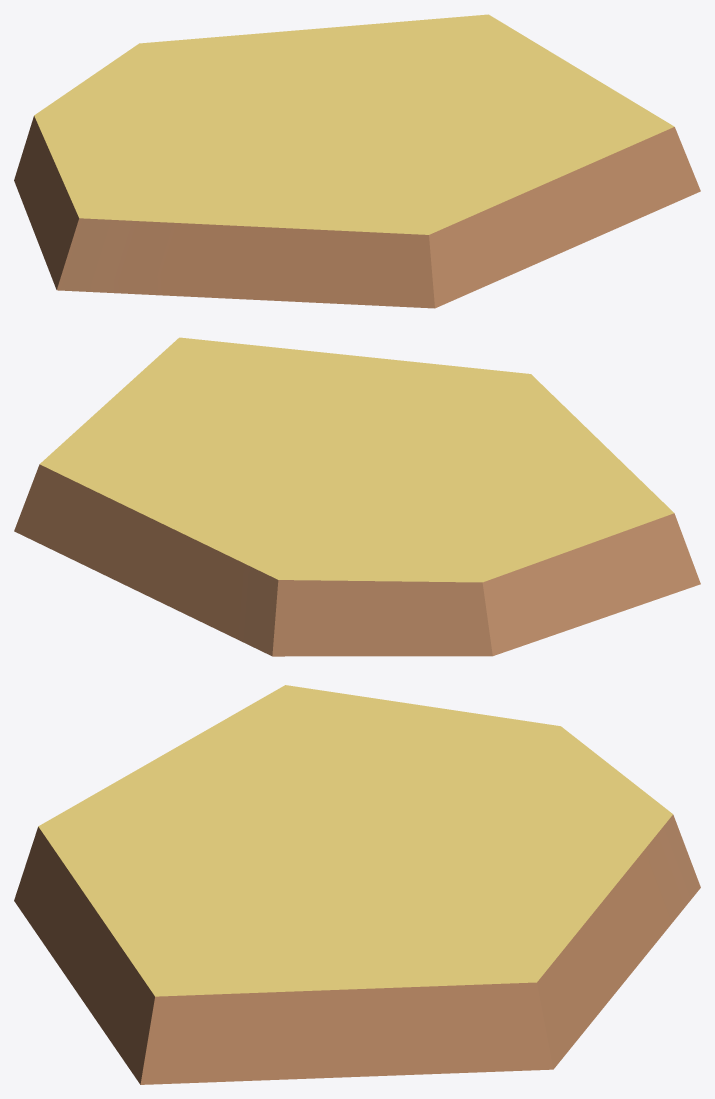
File: Dao_004.fbx
The picture shows the model from 3 angles, top to bottom: view 1: azimuth 30°, elevation 25°; view 2: azimuth 150°, elevation 25°; view 3: azimuth 270°, elevation 25°; orthographic projection. The views are drawn at different scales.
Parts seen in each view (by area): view 1: Dao_004; view 2: Dao_004; view 3: Dao_004.
Boxes of the visible parts, x1,y1,x2,y2 form: Dao_004: [14, 14, 700, 308]; Dao_004: [14, 337, 700, 656]; Dao_004: [14, 685, 700, 1084].
Size of the model in its own units: 451 by 47.91 by 388.
